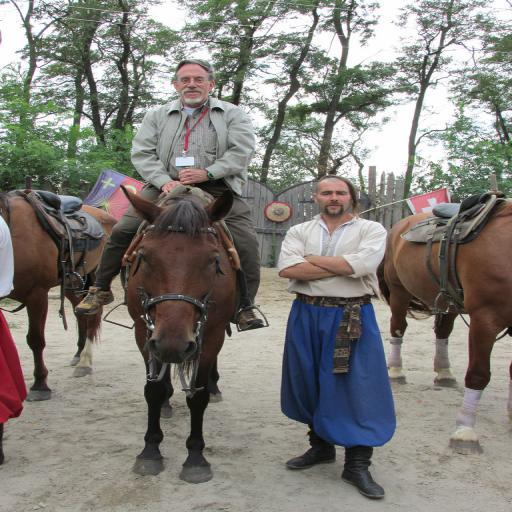Horse: (118, 184, 245, 484), (376, 198, 512, 458), (0, 190, 118, 402)
